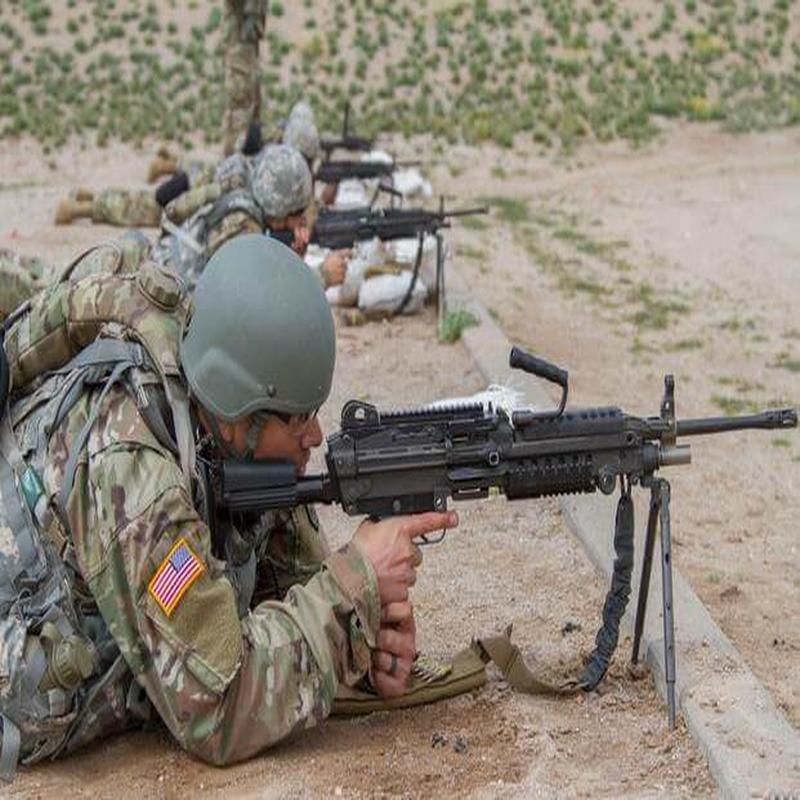GUN: (190, 337, 800, 665)
